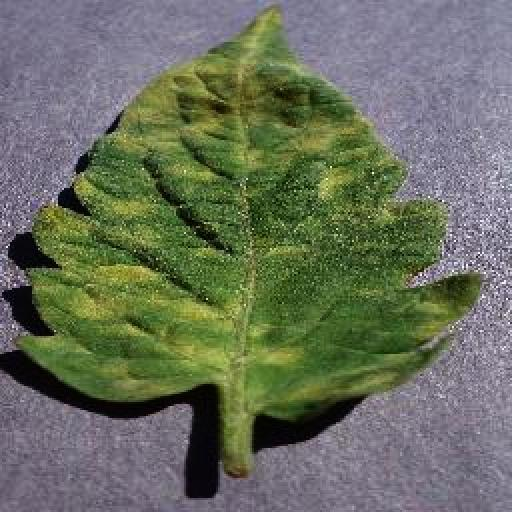disease_tomato: (11, 6, 484, 422)
